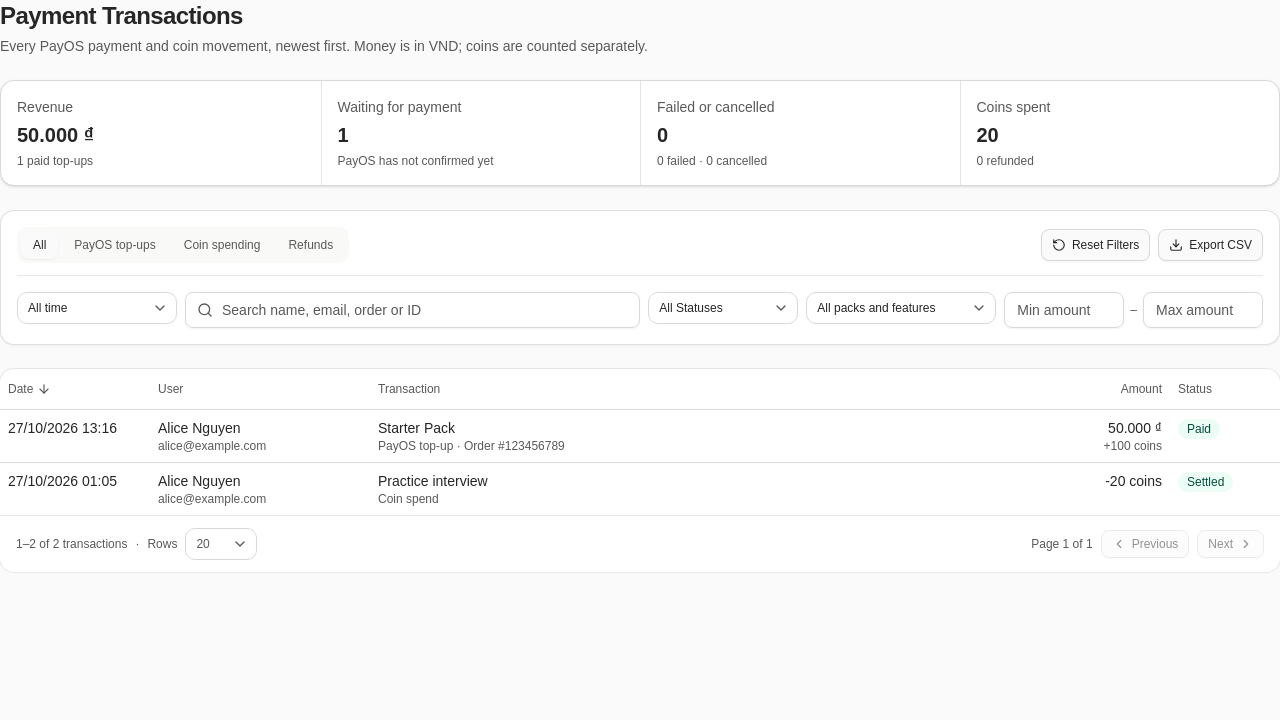
Scenario: AdminBillingView › opens read-only details drawer on row click and fetches transaction detail without mutation buttons
Click the button "Starter Pack". click: (416, 428)
box: [378,418,455,438]
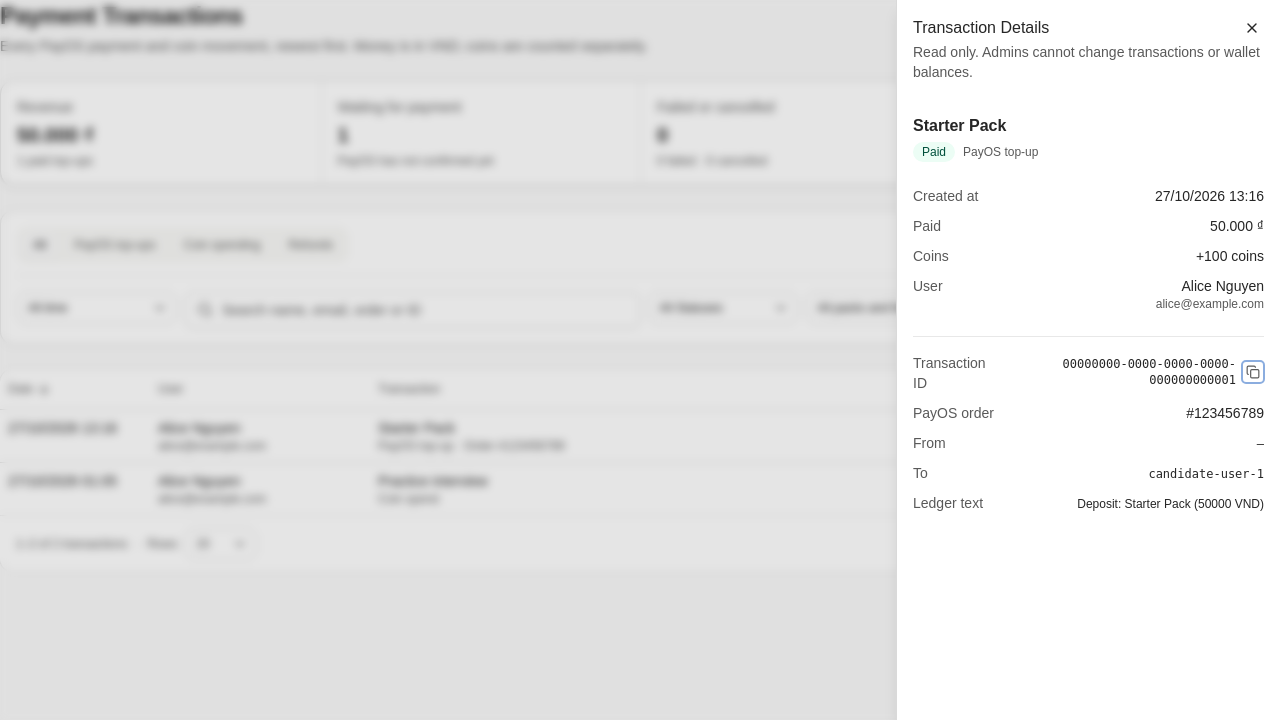
Now the heading "Transaction Details" is shown, box [913,19,1049,36]
